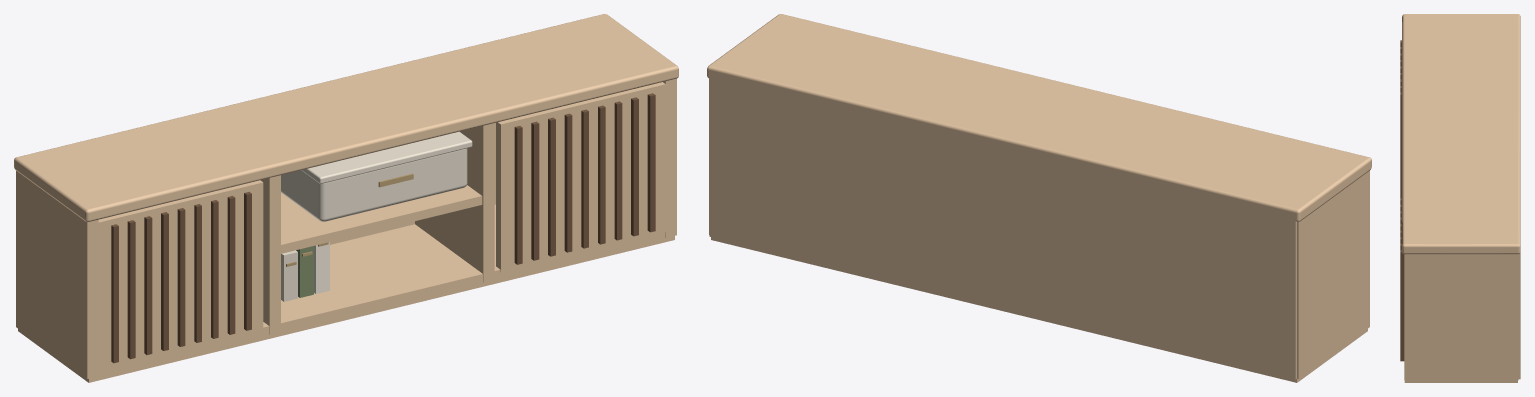
The model's file is bedroom_ref_sideboard.glb.
3 renders of one model, left to right at view 1: azimuth 30°, elevation 25°; view 2: azimuth 150°, elevation 25°; view 3: azimuth 270°, elevation 25°, orthographic. The views are drawn at different scales.
Bounding box in the file's own units: 3.15 × 0.8825 × 0.6905.
